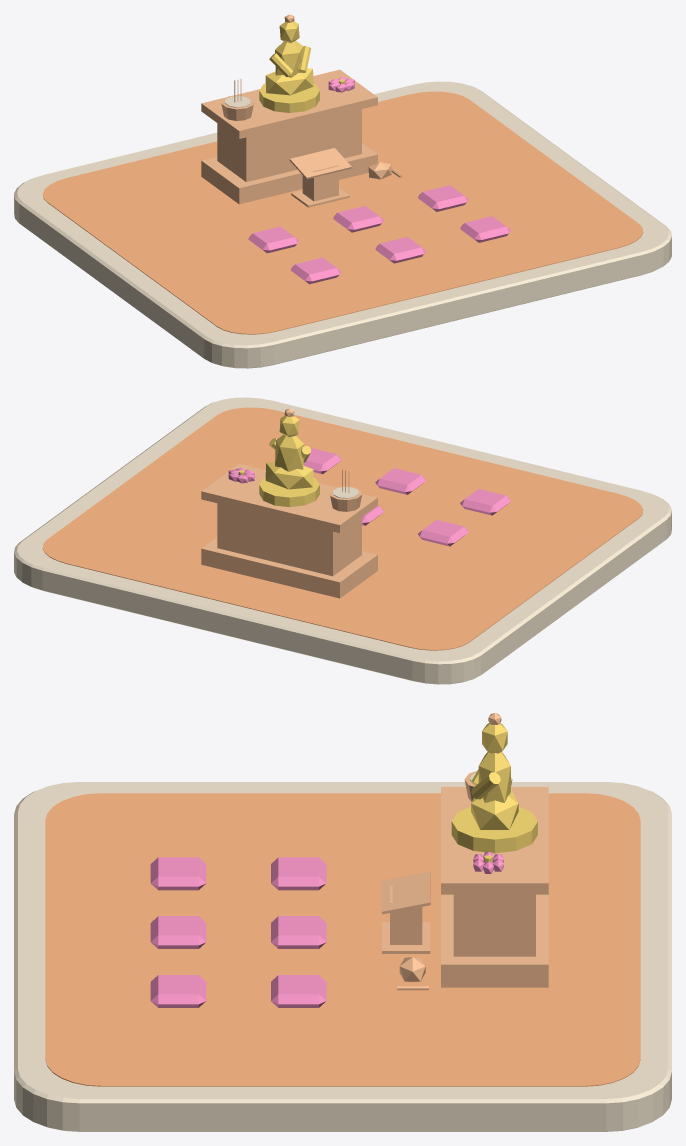
3 views of the same model, one above another, from view 1: azimuth 30°, elevation 25°; view 2: azimuth 150°, elevation 25°; view 3: azimuth 270°, elevation 25° (orthographic). The views are drawn at different scales.
Parts seen in each view (by area): view 1: COM-02 Floor Surface, COM-01 Rounded Base Direct, Altar, Top, Base, Reading top, Lotus base, Folded legs, Body, Meditation cushion, Meditation cushion.005, Meditation cushion.001 (+4 smaller); view 2: COM-02 Floor Surface, COM-01 Rounded Base Direct, Altar, Top, Base, Lotus base, Folded legs, Robe torso, Meditation cushion.004, Meditation cushion, Meditation cushion.003, Meditation cushion.005 (+1 smaller); view 3: COM-02 Floor Surface, COM-01 Rounded Base Direct, Top, Altar, Base, Lotus base, Meditation cushion.003, Meditation cushion, Meditation cushion.004, Meditation cushion.005, Meditation cushion.001, Meditation cushion.002 (+6 smaller).
Part boxes in pixels (box(x1,y1,x2,y2)): COM-02 Floor Surface: box(42, 91, 643, 334); COM-01 Rounded Base Direct: box(14, 81, 671, 368); Altar: box(217, 109, 361, 181); Top: box(201, 69, 377, 138); Base: box(201, 143, 377, 204); Reading top: box(289, 148, 351, 179); Lotus base: box(259, 83, 319, 112); Folded legs: box(265, 68, 313, 95); Body: box(302, 165, 338, 201); Meditation cushion: box(248, 226, 299, 253); Meditation cushion.005: box(460, 216, 510, 242); Meditation cushion.001: box(333, 206, 383, 232); COM-02 Floor Surface: box(42, 407, 643, 650); COM-01 Rounded Base Direct: box(14, 397, 671, 684); Altar: box(217, 503, 361, 576); Top: box(201, 463, 377, 532); Base: box(201, 537, 377, 598); Lotus base: box(259, 477, 319, 507); Folded legs: box(265, 462, 313, 489); Robe torso: box(275, 435, 304, 471); Meditation cushion.004: box(375, 468, 426, 494); Meditation cushion: box(418, 519, 468, 546); Meditation cushion.003: box(460, 489, 510, 515); Meditation cushion.005: box(303, 447, 341, 474); COM-02 Floor Surface: box(45, 793, 640, 1086); COM-01 Rounded Base Direct: box(14, 782, 671, 1131); Top: box(441, 787, 548, 894); Altar: box(453, 894, 535, 956); Base: box(441, 894, 548, 987); Lotus base: box(451, 807, 537, 853); Meditation cushion.003: box(150, 857, 206, 890); Meditation cushion: box(271, 857, 326, 890); Meditation cushion.004: box(150, 916, 206, 948); Meditation cushion.005: box(150, 975, 206, 1007); Meditation cushion.001: box(271, 916, 326, 948); Meditation cushion.002: box(271, 975, 326, 1007).
Size of the model in its own units: 6 by 2.27 by 5.2.
1 material, 1 textured.
